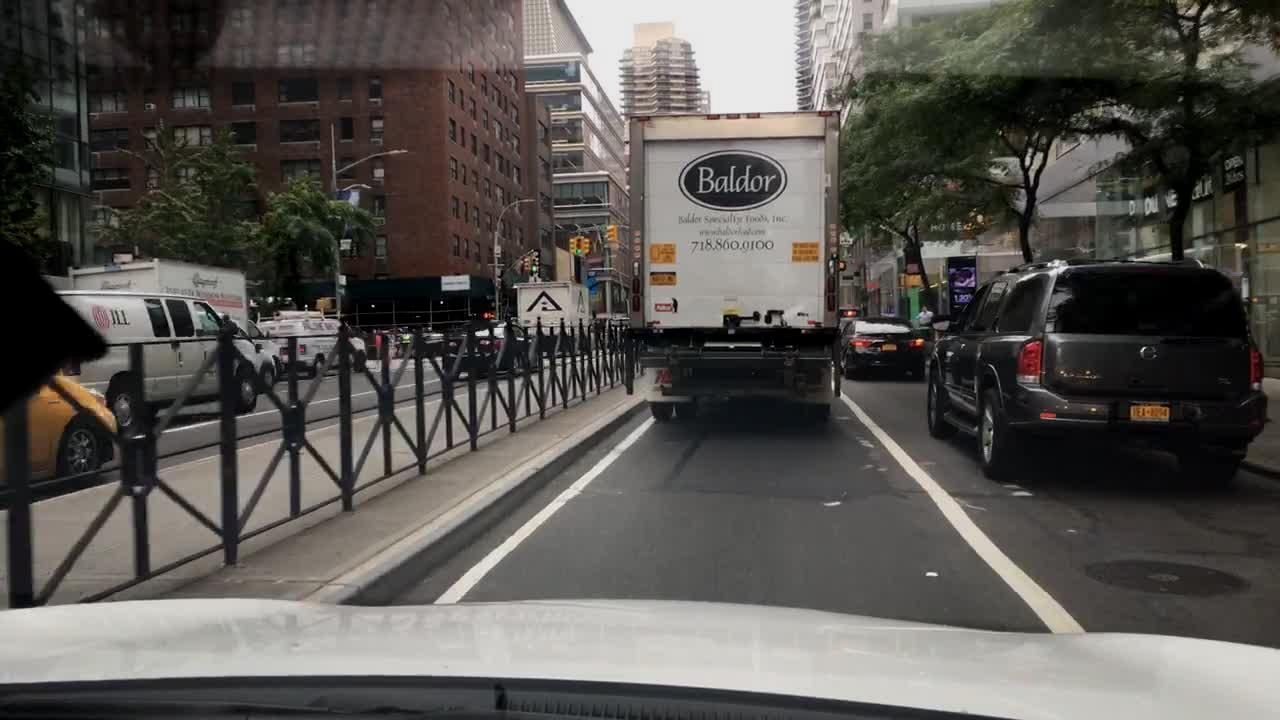Nissan: (1133, 340, 1162, 366)
